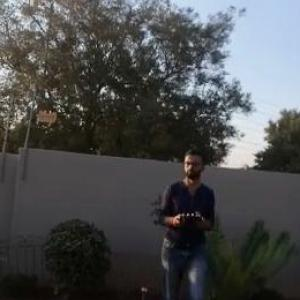follow: (151, 141, 223, 299)
